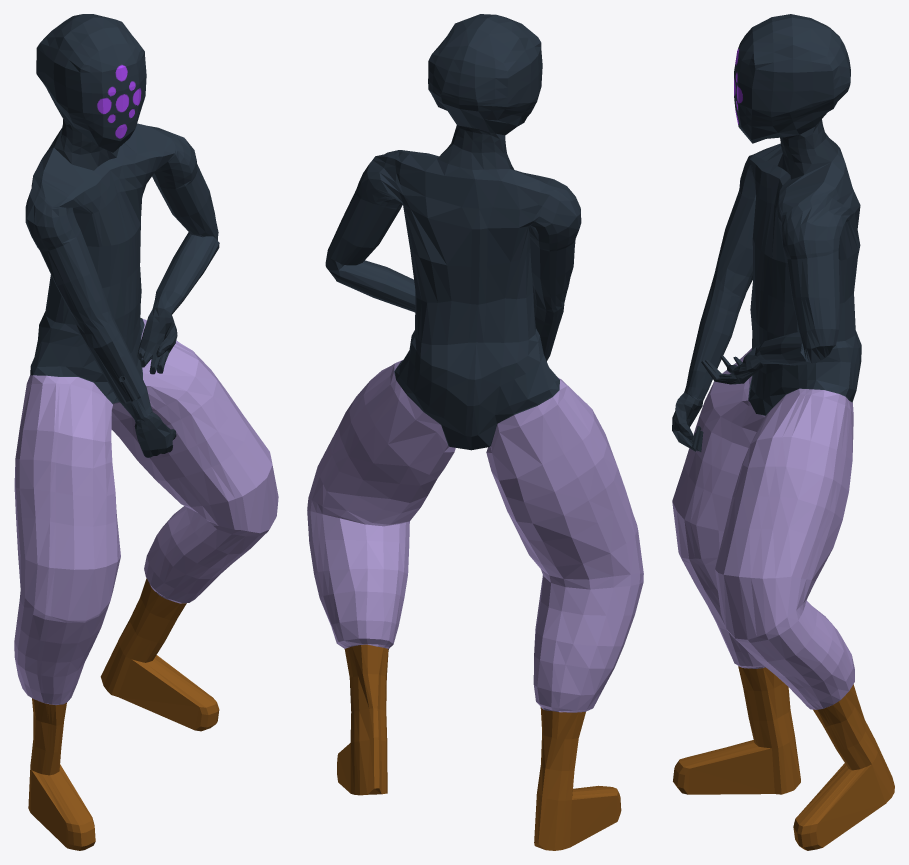
The model's file is Oracle_WL_000009.obj.
3 views of the same model, side by side, from view 1: azimuth 30°, elevation 25°; view 2: azimuth 150°, elevation 25°; view 3: azimuth 270°, elevation 25° (orthographic). The views are drawn at different scales.
Parts seen in each view (by area): view 1: Cube; view 2: Cube; view 3: Cube.
Boxes of the visible parts, x1,y1,x2,y2 form: Cube: (14,14,278,850); Cube: (307,14,643,850); Cube: (672,14,894,850).
Size of the model in its own units: 1.45 by 3.83 by 0.9643.
